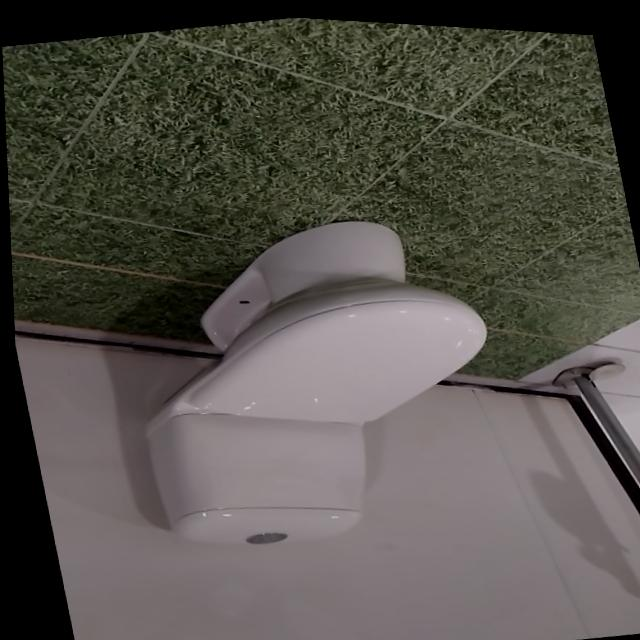toilet: (101, 186, 523, 570)
